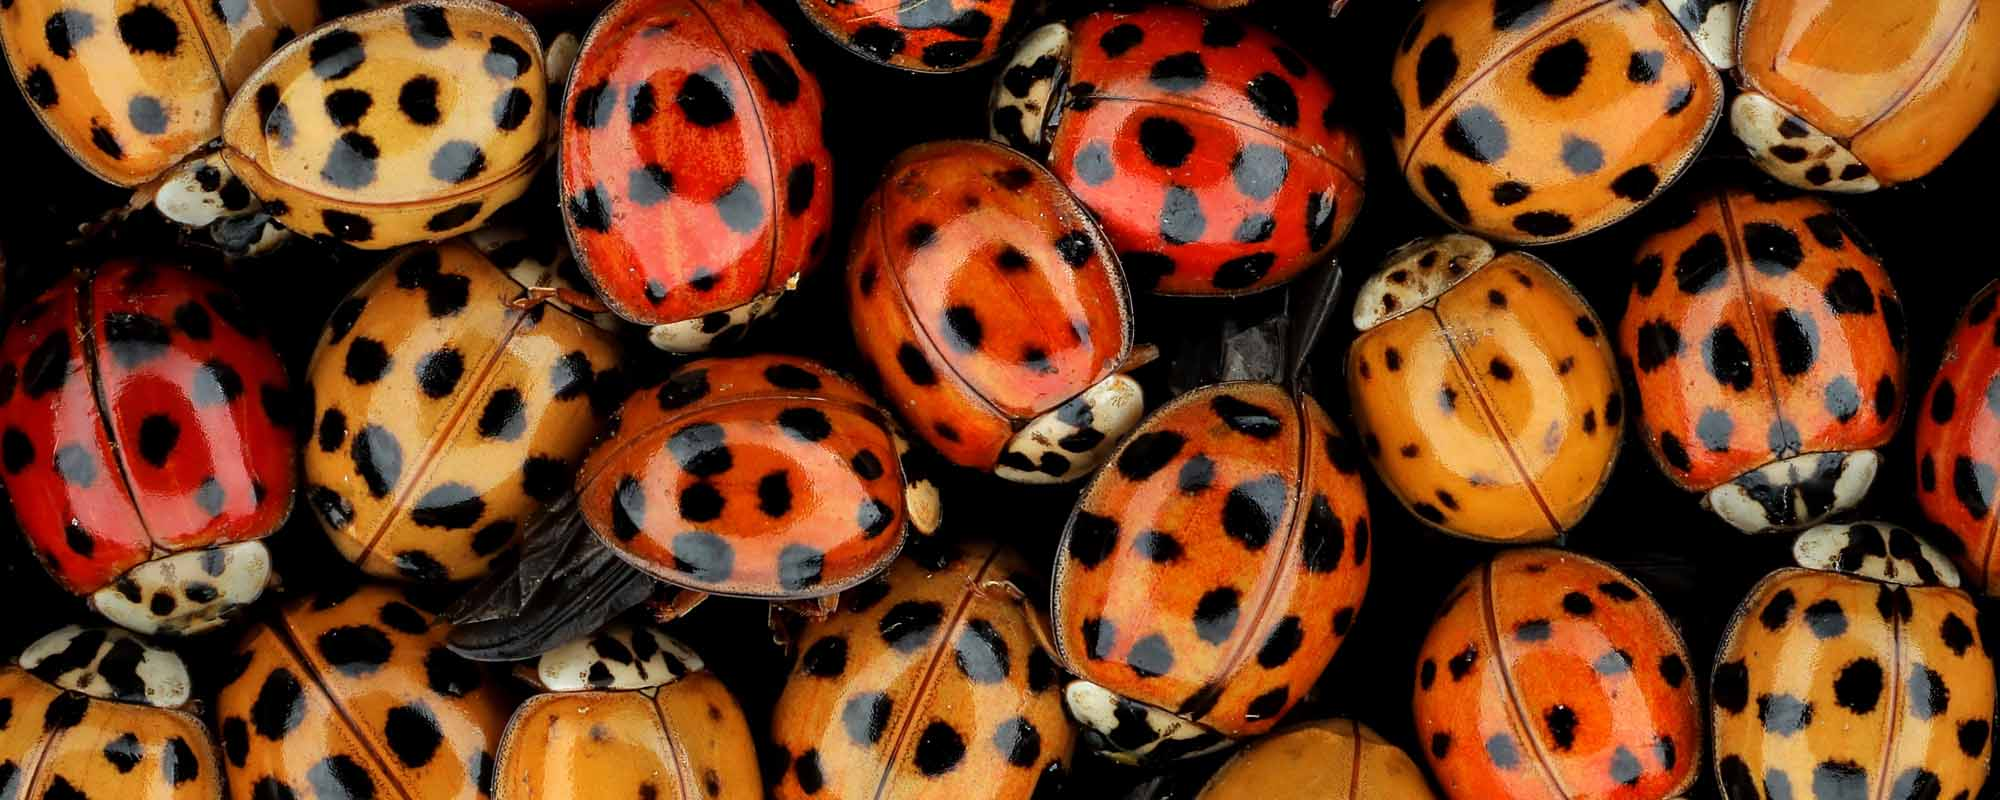asian multicolored lady: (1011, 387, 1364, 769), (302, 249, 622, 604), (17, 246, 316, 615), (1337, 219, 1670, 549), (1612, 184, 1926, 517), (985, 14, 1369, 282), (556, 355, 946, 614), (847, 131, 1139, 470), (767, 510, 1082, 800), (566, 17, 842, 344), (1698, 500, 2000, 782), (208, 1, 545, 251), (1402, 528, 1710, 800), (1411, 1, 1723, 255), (216, 600, 506, 800), (497, 604, 753, 800), (1758, 1, 1971, 217)
